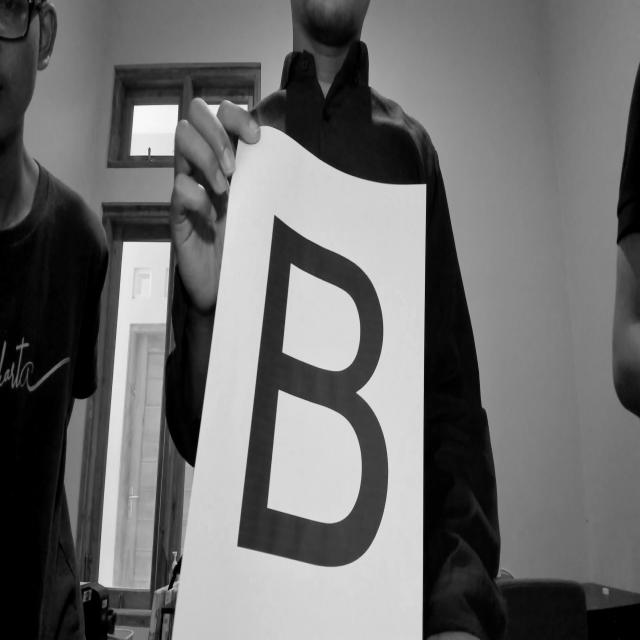b: (236, 198, 390, 616)
